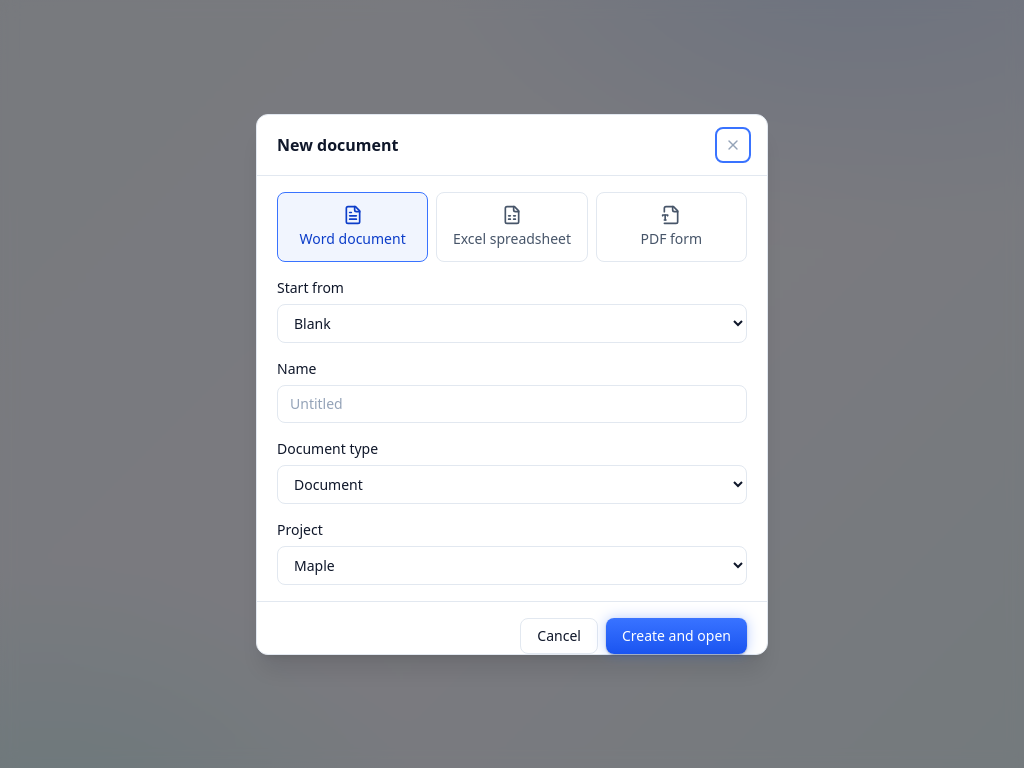
Scenario: NewDocumentModal › shows why creating failed and stays open
The image size is (1024, 768).
Expected: the dropdown labelled "Project" shows "Maple", [277, 546, 747, 584]
Click the button with test id "new-document-create": (676, 636) [606, 618, 747, 654]
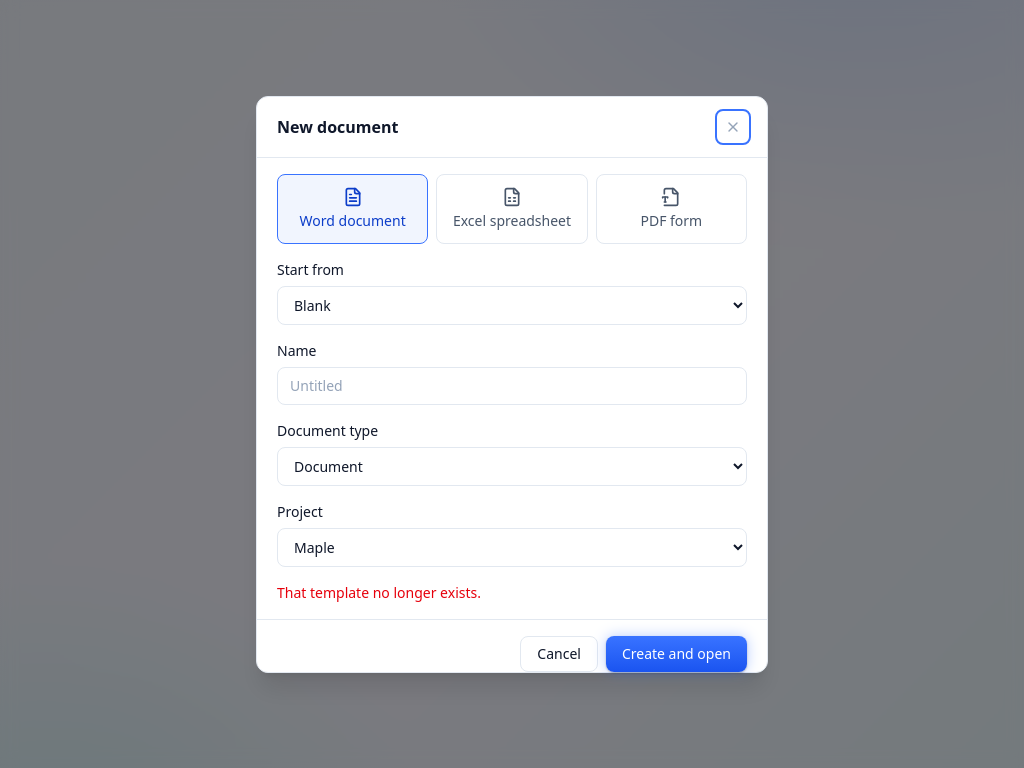
Result: the message reads "That template no longer exists." at [277, 582, 481, 602]
